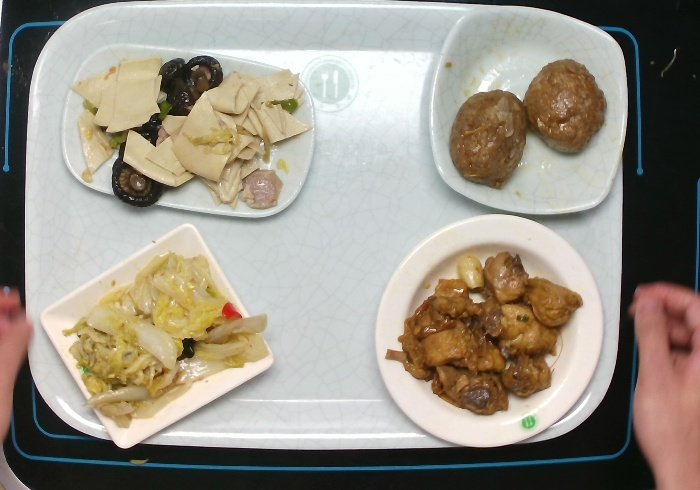WCQzf-Bai_Se_Si_Fang_Die: (33, 219, 277, 455)
WCQzf-Da_Si_Fang_Die: (426, 3, 633, 219)
WCQzf-Kuan_Bian_Yuan_Die: (371, 209, 608, 453)
WCQzf-Tuo_Yuan_Pan: (56, 38, 320, 222)
